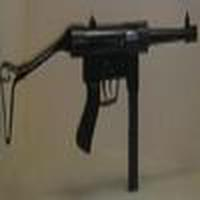gun: (1, 7, 200, 196)
